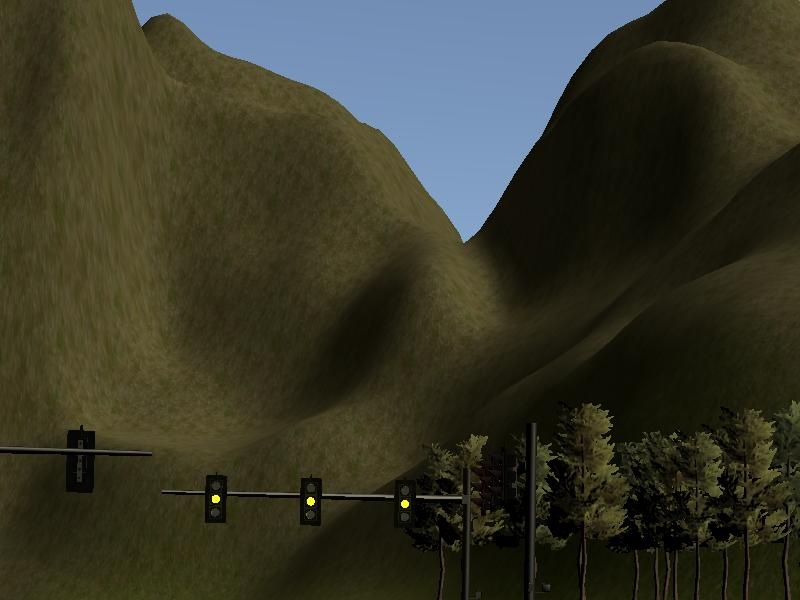yellow: (202, 471, 230, 528), (394, 475, 419, 532), (298, 474, 322, 529)
